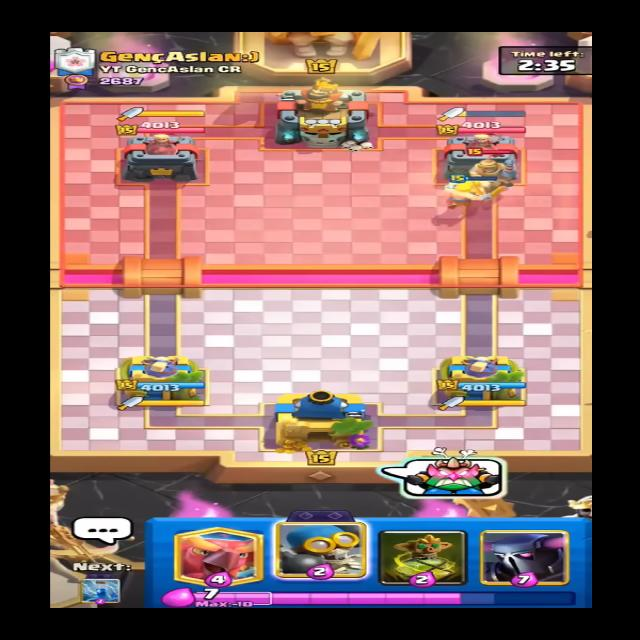prince: (461, 146, 521, 195)
